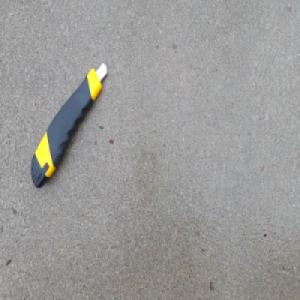Cutter: (29, 62, 108, 189)
